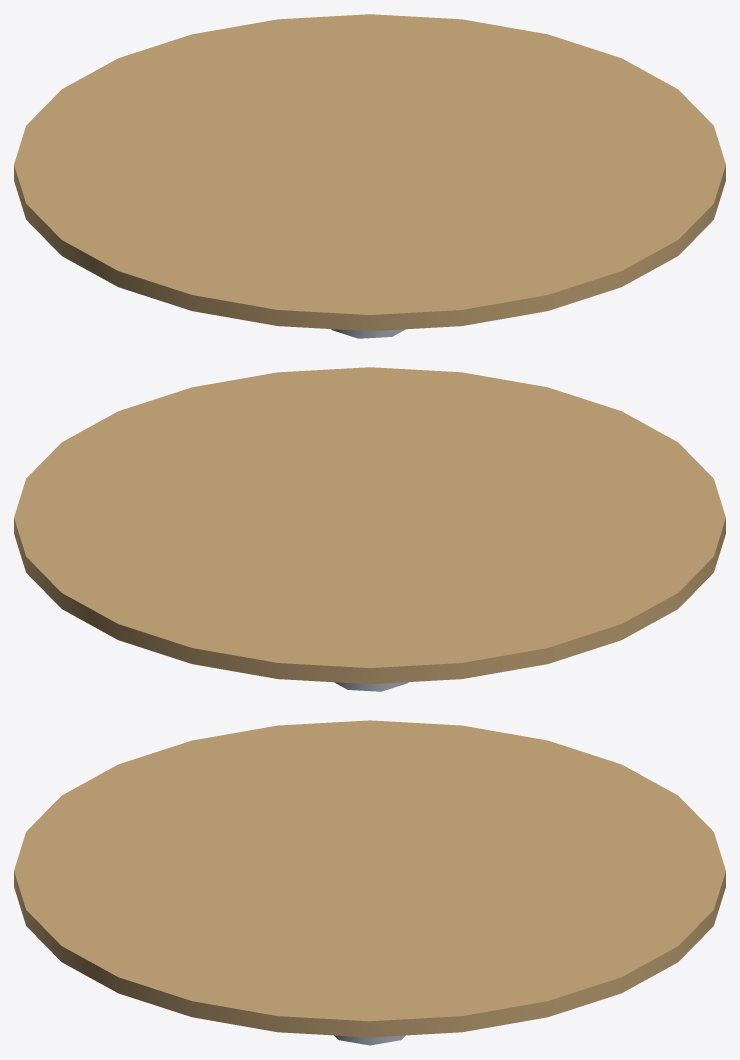
Rendered from table-round.glb.
3 renders of one model, top to bottom at view 1: azimuth 30°, elevation 25°; view 2: azimuth 150°, elevation 25°; view 3: azimuth 270°, elevation 25°, orthographic.
Visible parts, largest first — view 1: Top; view 2: Top; view 3: Top.
Part boxes in pixels (x1,y1,x2,y2): Top: (14, 14, 725, 331); Top: (14, 367, 725, 684); Top: (14, 720, 725, 1037).
Size of the model in its own units: 2.4 by 0.58 by 2.4.
